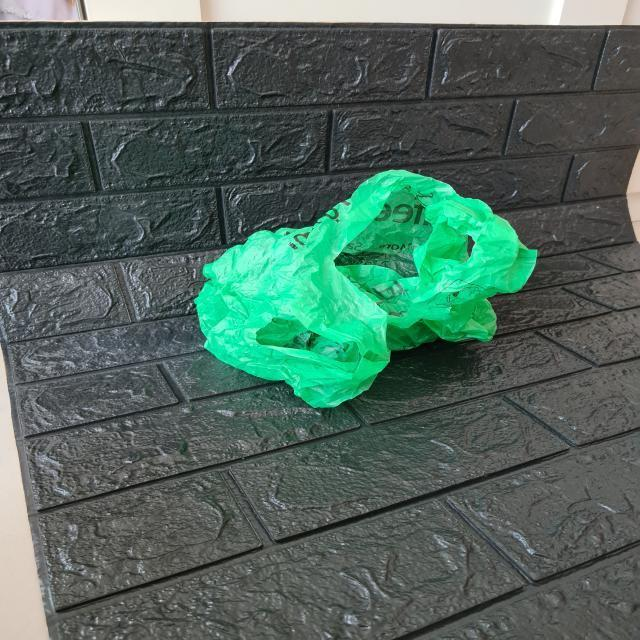Plastic_Bag: (180, 159, 544, 421)
